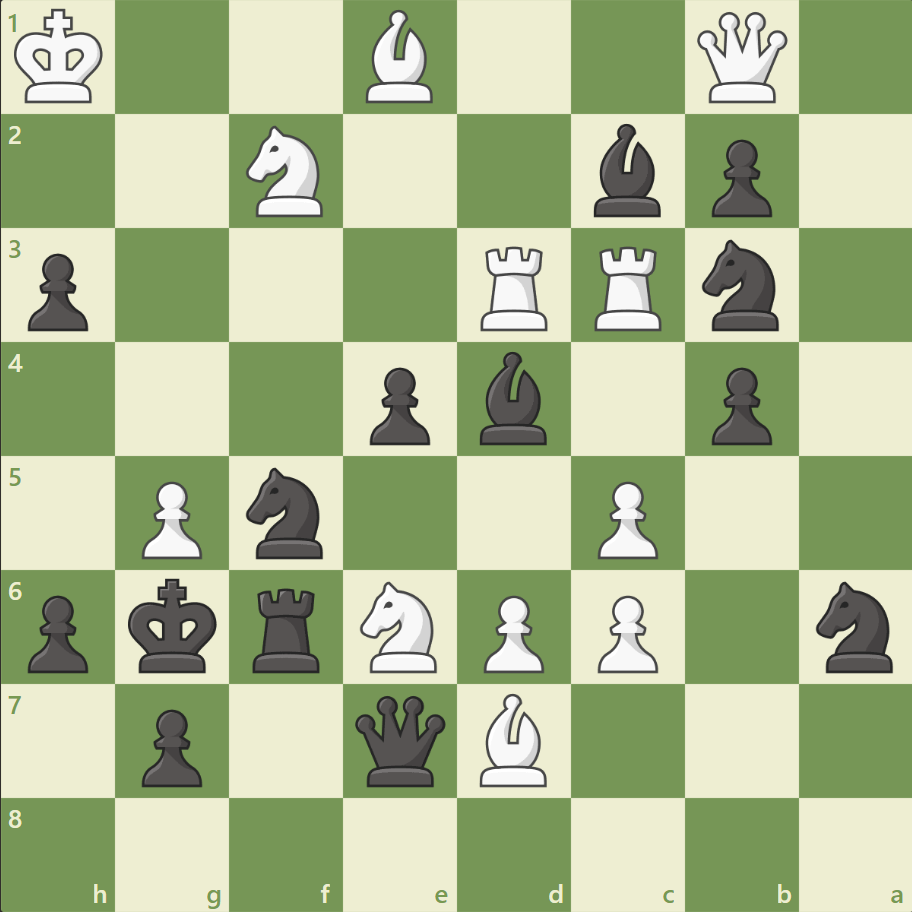B: (471, 687, 555, 790), (358, 6, 442, 109)
K: (11, 4, 111, 112)
N: (351, 575, 449, 677), (238, 121, 335, 223)
P: (474, 586, 549, 677), (133, 473, 208, 564), (588, 586, 662, 677), (588, 473, 662, 564)
Q: (691, 9, 790, 108)
R: (587, 239, 670, 336), (473, 239, 556, 336)
b: (471, 347, 555, 449), (585, 120, 669, 222)
k: (124, 571, 224, 679)
n: (238, 461, 335, 564), (692, 234, 789, 337), (806, 575, 903, 677)
p: (133, 700, 208, 791), (20, 586, 95, 677), (701, 359, 776, 450), (20, 246, 95, 337), (701, 132, 776, 223), (361, 359, 435, 450)
q: (351, 690, 450, 789)
r: (246, 579, 329, 676)
